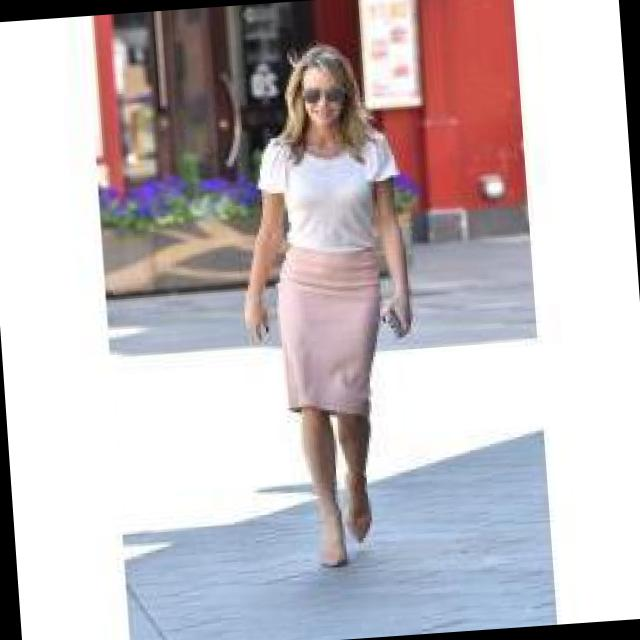Tshirt: (252, 122, 408, 258)
skirt: (270, 238, 392, 420)
